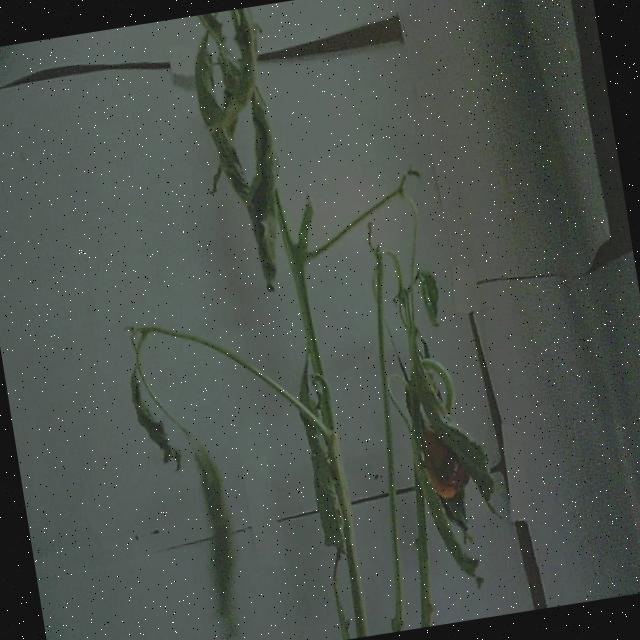Leaf: (183, 429, 252, 640), (411, 366, 501, 522), (234, 87, 297, 286), (184, 20, 253, 199), (299, 394, 350, 550), (124, 348, 182, 474), (224, 7, 266, 98)
